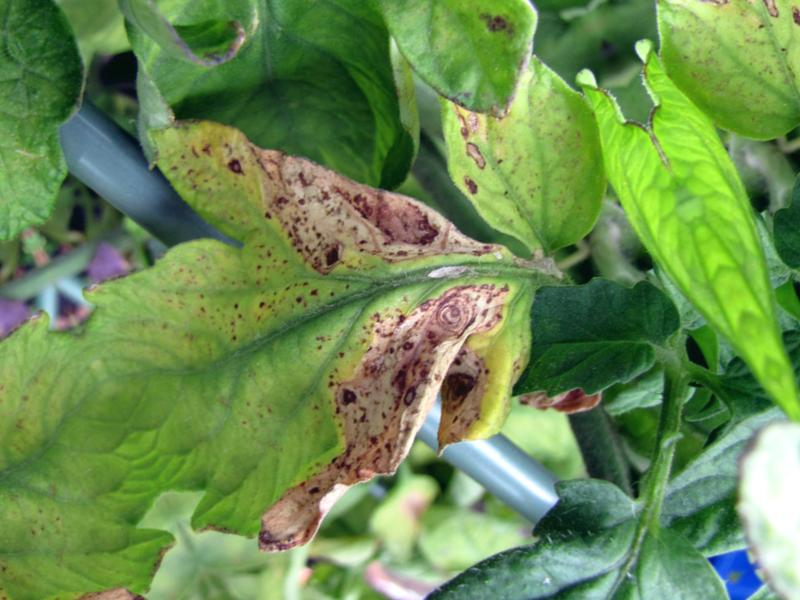Tomato Early blight leaf: (22, 1, 650, 600)
